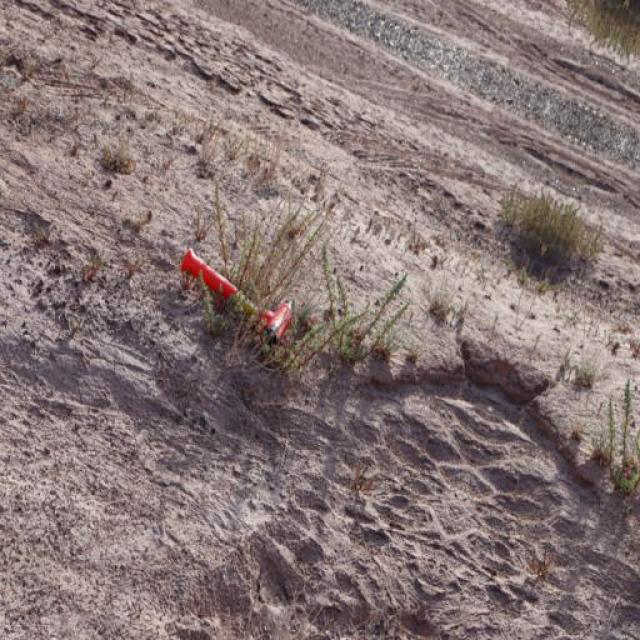mallet: (178, 246, 294, 346)
